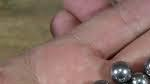ironball: (108, 59, 134, 82), (142, 54, 149, 77), (87, 77, 111, 83), (113, 82, 135, 83)
